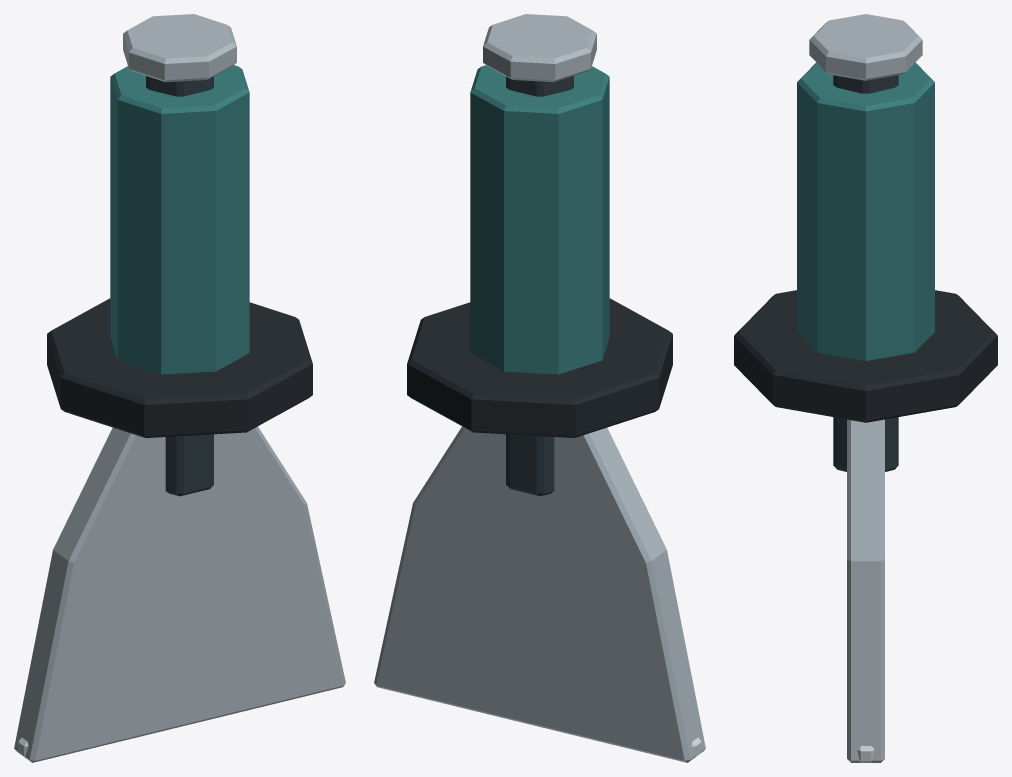
File: b06_masonry_bolster.glb
3 views of the same model, side by side, from view 1: azimuth 30°, elevation 25°; view 2: azimuth 150°, elevation 25°; view 3: azimuth 270°, elevation 25° (orthographic). The views are drawn at different scales.
Parts seen in each view (by area): view 1: b06_masonry_bolster; view 2: b06_masonry_bolster; view 3: b06_masonry_bolster.
Boxes of the visible parts, x1,y1,x2,y2 form: b06_masonry_bolster: [14, 14, 345, 762]; b06_masonry_bolster: [374, 14, 705, 762]; b06_masonry_bolster: [734, 14, 997, 762].
Bounding box in the file's own units: 0.112 × 0.23 × 0.084.
